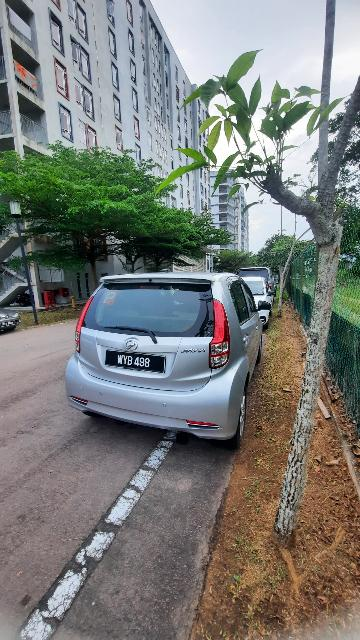License_Plate: (96, 346, 171, 377)
car: (71, 274, 266, 449)
